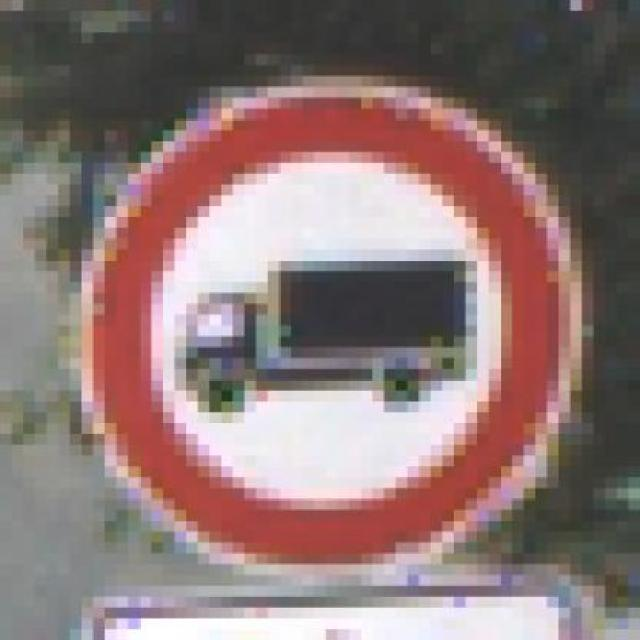Truck traffic is prohibited: (46, 54, 617, 597)
